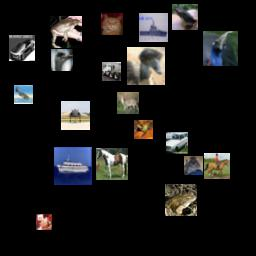airplane: (61, 101, 90, 130), (14, 85, 33, 104)
automobile: (9, 35, 35, 61), (166, 132, 188, 154)
bird: (127, 47, 165, 85), (203, 31, 238, 66), (51, 49, 73, 71)
cat: (101, 13, 123, 35), (184, 156, 203, 175), (36, 214, 52, 230)
deer: (117, 92, 139, 114)
frog: (165, 184, 197, 216), (50, 16, 82, 48), (172, 4, 198, 30), (134, 120, 153, 139)
ship: (54, 147, 92, 185), (139, 13, 168, 42)
truck: (102, 62, 121, 81)
